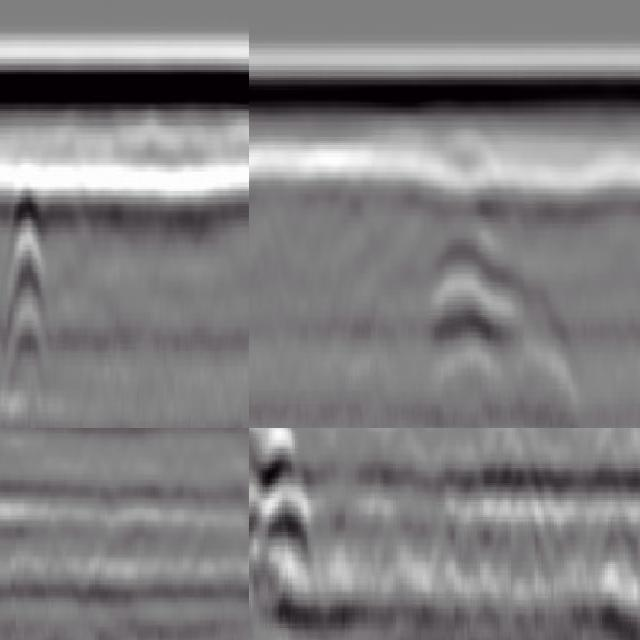crack: (4, 164, 43, 425)
loose: (432, 219, 567, 375), (250, 429, 326, 601), (1, 474, 124, 565)
